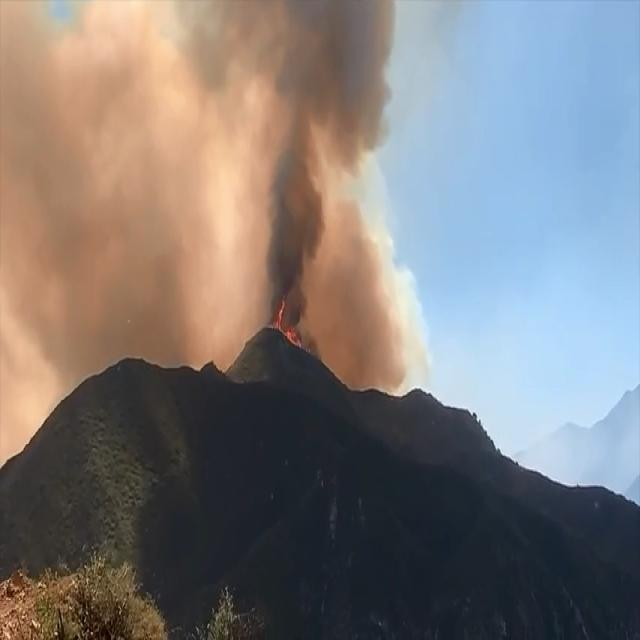Fire: (268, 285, 304, 347)
